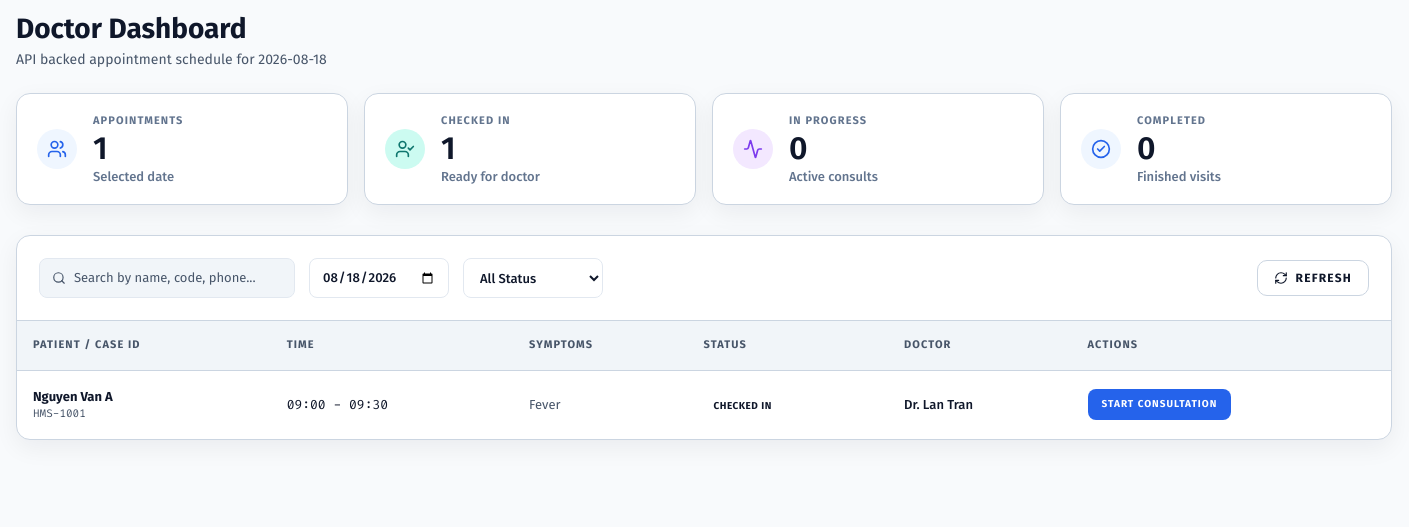
DoctorDashboardPage › updates appointment status with the real appointment id and refreshes
Click the button "Start Consultation" at (1159, 404), box [1088,389,1231,420]
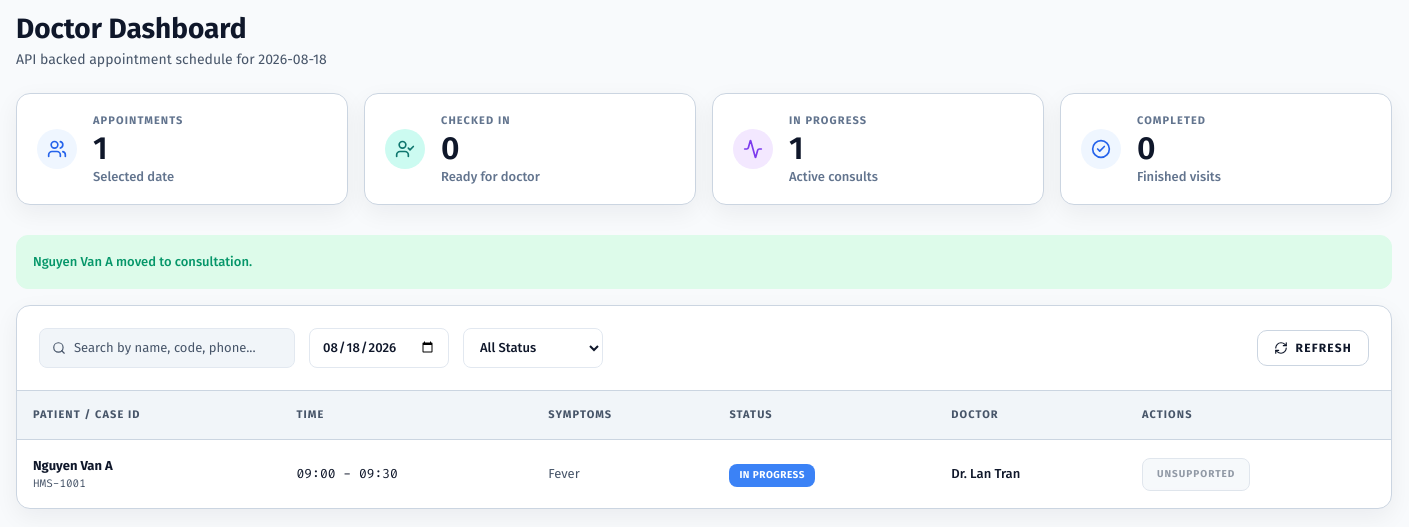
Check: the message reads "Nguyen Van A moved to consultation.", box [33,254,252,269]
